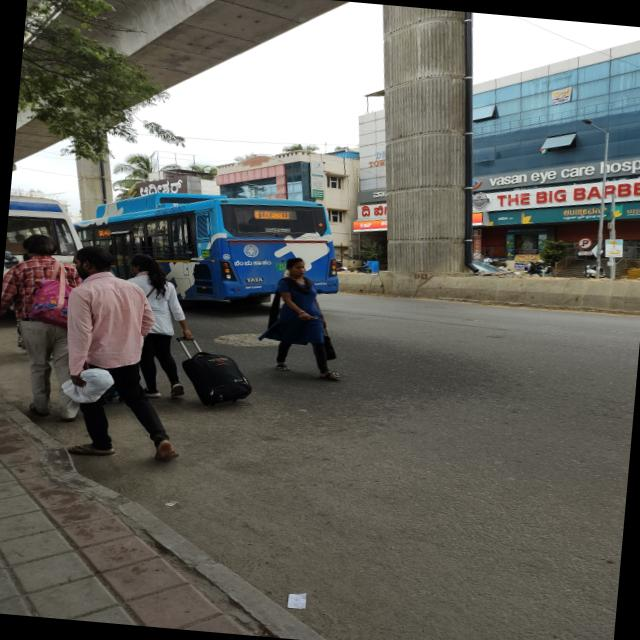bus: (56, 179, 352, 317)
display: (254, 204, 298, 224), (96, 227, 114, 238)
dnumber: (254, 210, 261, 219), (98, 230, 104, 236)
